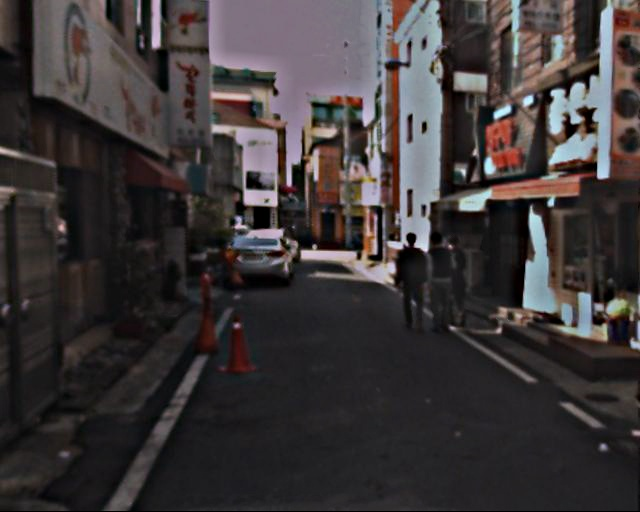person: (424, 232, 464, 330), (397, 235, 436, 331), (443, 234, 482, 328)
